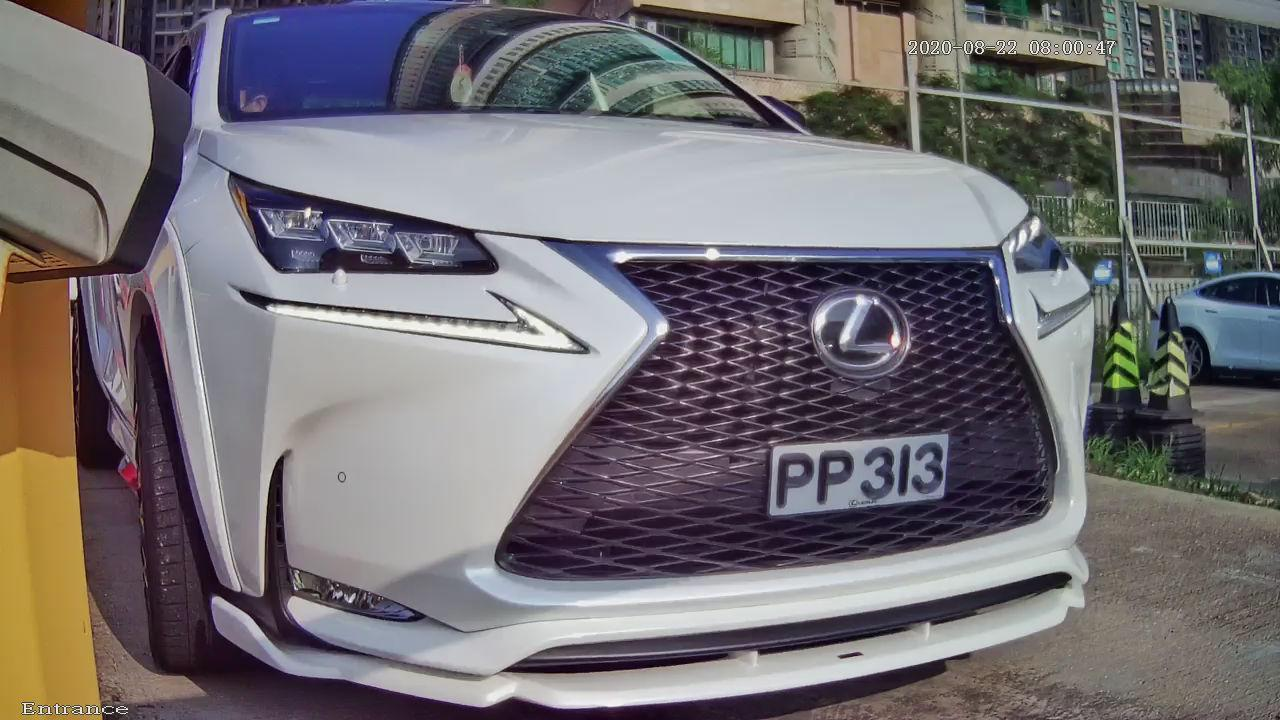Car: (18, 4, 1178, 711)
License Plate: (755, 412, 966, 534)
